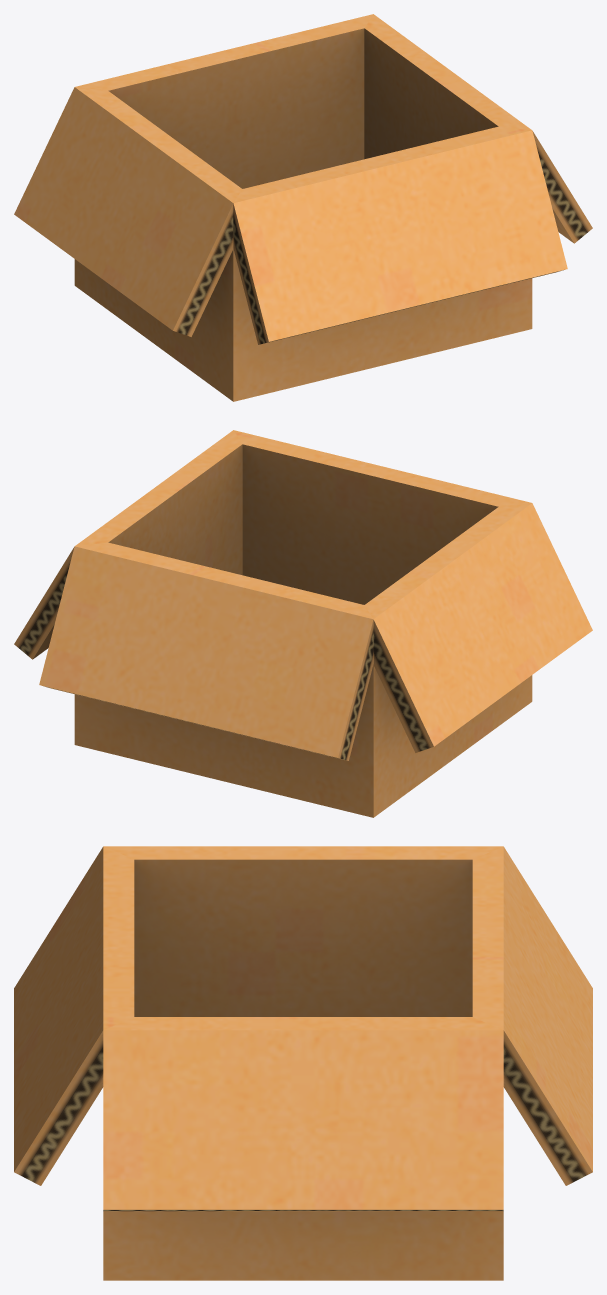
Rendered from Corrugated Cardboard Box.fbx.
3 renders of one model, top to bottom at view 1: azimuth 30°, elevation 25°; view 2: azimuth 150°, elevation 25°; view 3: azimuth 270°, elevation 25°, orthographic. The views are drawn at different scales.
Parts seen in each view (by area): view 1: PaperBox; view 2: PaperBox; view 3: PaperBox.
Part boxes in pixels (x1,y1,x2,y2): PaperBox: (14, 14, 592, 401); PaperBox: (14, 430, 592, 817); PaperBox: (14, 846, 592, 1280).
Bounding box in the file's own units: 3.54 × 1.6 × 3.35.
1 material, 1 textured.
